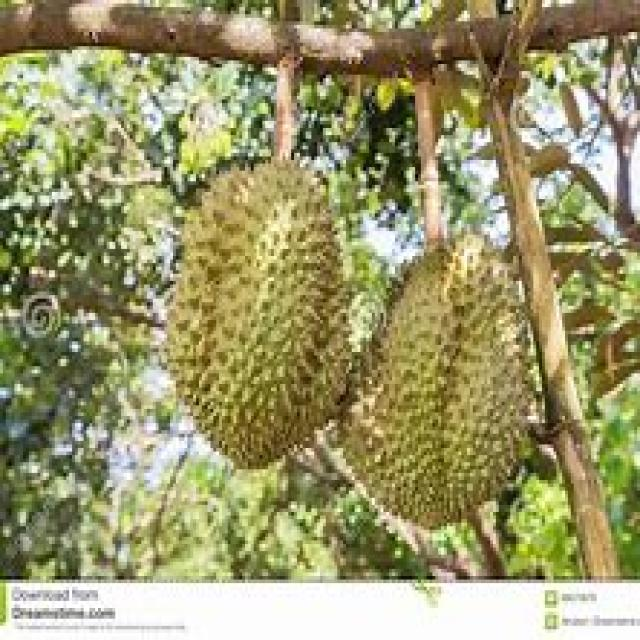mature: (169, 163, 348, 466), (346, 250, 528, 526)
